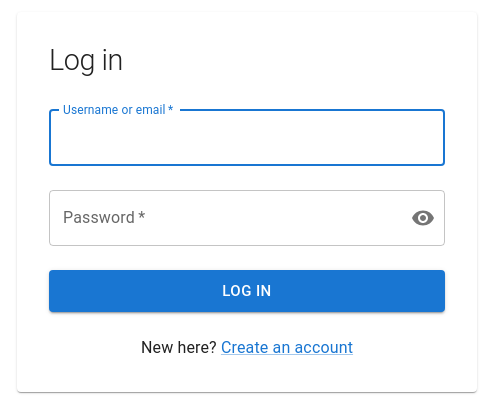
Test case: LoginPage: logging in › disables the form while the request is in progress
In the field labelled "Username or email *": (247, 138) [49,110,445,166], type "alice"
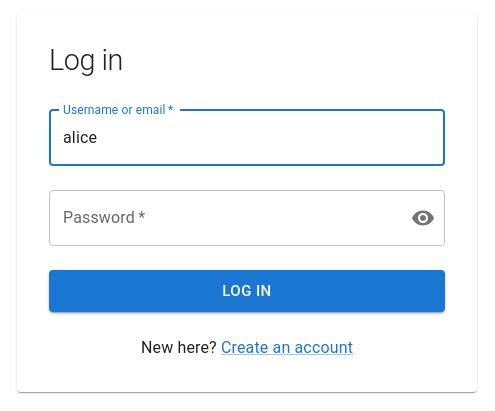
In the password field labelled "Password *": (222, 218) [49,190,395,246], type "Str0ng!Pass"
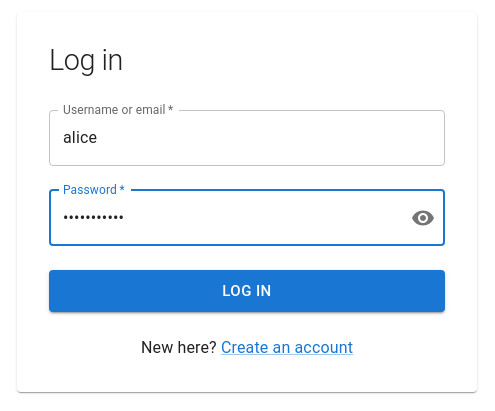
Click the button "Log in": click(247, 291) [49,270,445,312]
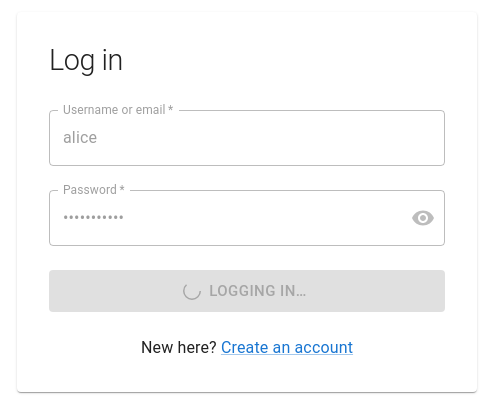
Expected: the button "Logging in…" is disabled, [49,270,445,312]
Expected: the field labelled "Username or email *" is disabled, [49,110,445,166]
